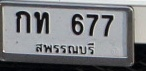txt01: (14, 10, 31, 34)
txt18: (33, 11, 51, 35)
